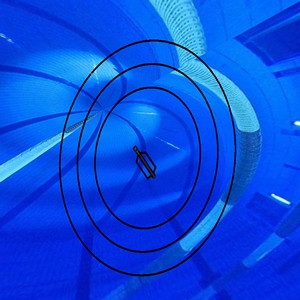circle: (57, 38, 238, 279)
submarine: (132, 144, 161, 184)
